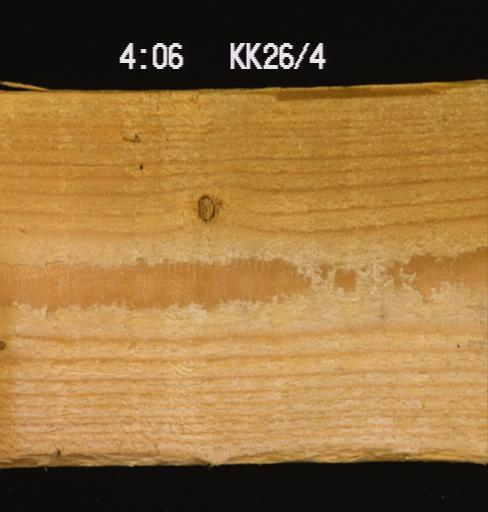dry_knot: (193, 191, 217, 220)
wave: (0, 430, 487, 465), (265, 80, 487, 105)
